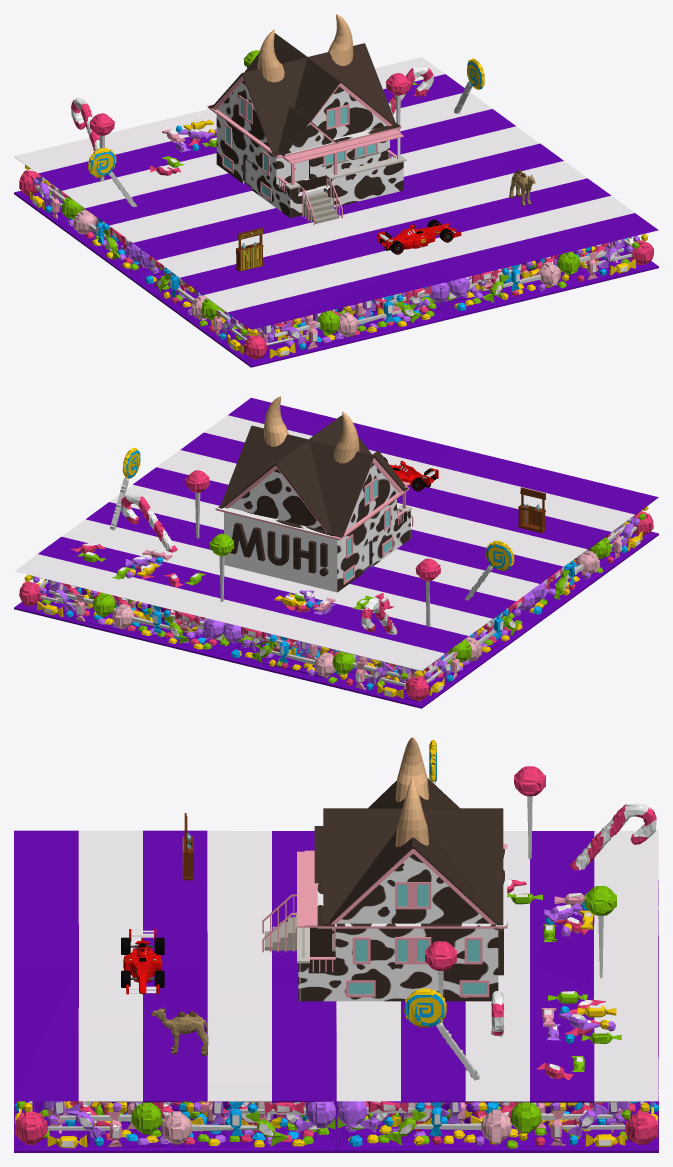
3 renders of one model, top to bottom at view 1: azimuth 30°, elevation 25°; view 2: azimuth 150°, elevation 25°; view 3: azimuth 270°, elevation 25°, orthographic. The views are drawn at different scales.
Visible parts, largest first — view 1: TERRAIN_CANDY, Cube.1242, VEHICLES_FORMULA_1, OBJRANDOM_LEMONADE_STAND, ANIMAL_CAMELLO; view 2: TERRAIN_CANDY, Cube.1242, OBJRANDOM_LEMONADE_STAND, VEHICLES_FORMULA_1; view 3: TERRAIN_CANDY, Cube.1242, VEHICLES_FORMULA_1, ANIMAL_CAMELLO, OBJRANDOM_LEMONADE_STAND.
Part boxes in pixels (<box>): TERRAIN_CANDY: <box>14,50,658,367</box>; Cube.1242: <box>207,14,406,225</box>; VEHICLES_FORMULA_1: <box>377,219,461,254</box>; OBJRANDOM_LEMONADE_STAND: <box>235,227,263,271</box>; ANIMAL_CAMELLO: <box>509,169,535,206</box>; TERRAIN_CANDY: <box>14,398,658,708</box>; Cube.1242: <box>215,396,413,592</box>; OBJRANDOM_LEMONADE_STAND: <box>518,487,545,532</box>; VEHICLES_FORMULA_1: <box>384,457,438,491</box>; TERRAIN_CANDY: <box>14,740,658,1152</box>; Cube.1242: <box>262,737,507,1001</box>; VEHICLES_FORMULA_1: <box>121,929,164,994</box>; ANIMAL_CAMELLO: <box>151,1007,208,1055</box>; OBJRANDOM_LEMONADE_STAND: <box>182,813,193,880</box>.
Size of the model in its own units: 4059 by 1859 by 4000.
37 materials, 2 textured.
